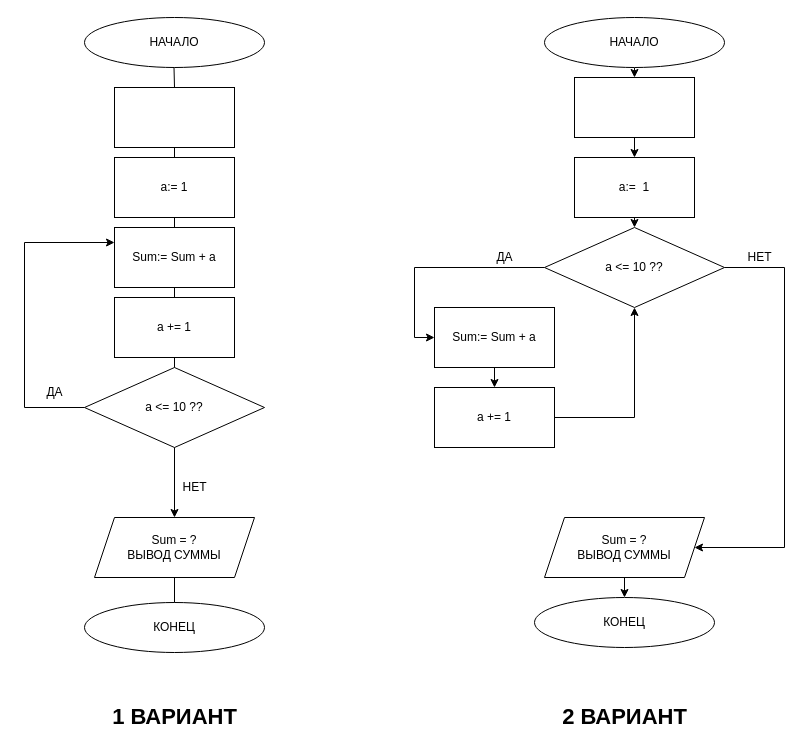
The diagram is 810 pixels wide and 755 high, and some of its shapes have lost their labels. Each missing label, with the centre of its shape:
"Sum := 0" goes at point 634,107.
"Sum:= 0" goes at point 174,117.
